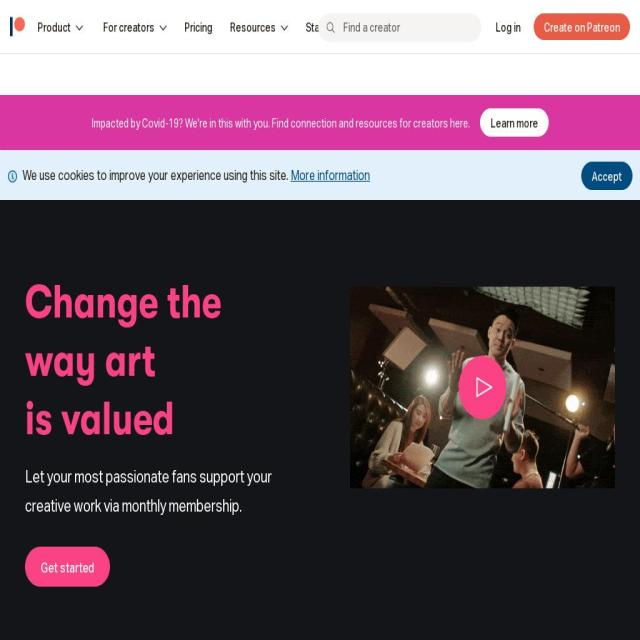button: (350, 287, 615, 489), (534, 0, 630, 53), (25, 546, 110, 586), (97, 14, 181, 39), (479, 108, 549, 137), (224, 14, 302, 39), (291, 165, 370, 185), (35, 14, 97, 39), (582, 162, 632, 190), (0, 0, 68, 18), (10, 3, 35, 50), (306, 17, 351, 36), (185, 17, 212, 36), (496, 17, 520, 36)
field: (336, 19, 474, 35)
heading: (25, 274, 290, 448)
image: (458, 355, 507, 420), (10, 16, 25, 36), (326, 20, 336, 34), (8, 169, 18, 183), (159, 22, 167, 34), (76, 22, 83, 34), (281, 22, 288, 34)
text: (25, 465, 272, 516), (91, 113, 470, 132), (23, 166, 288, 183), (534, 13, 630, 40), (40, 557, 94, 576), (490, 115, 538, 130), (104, 20, 154, 34), (230, 20, 276, 34), (592, 168, 622, 184), (38, 20, 70, 34)
